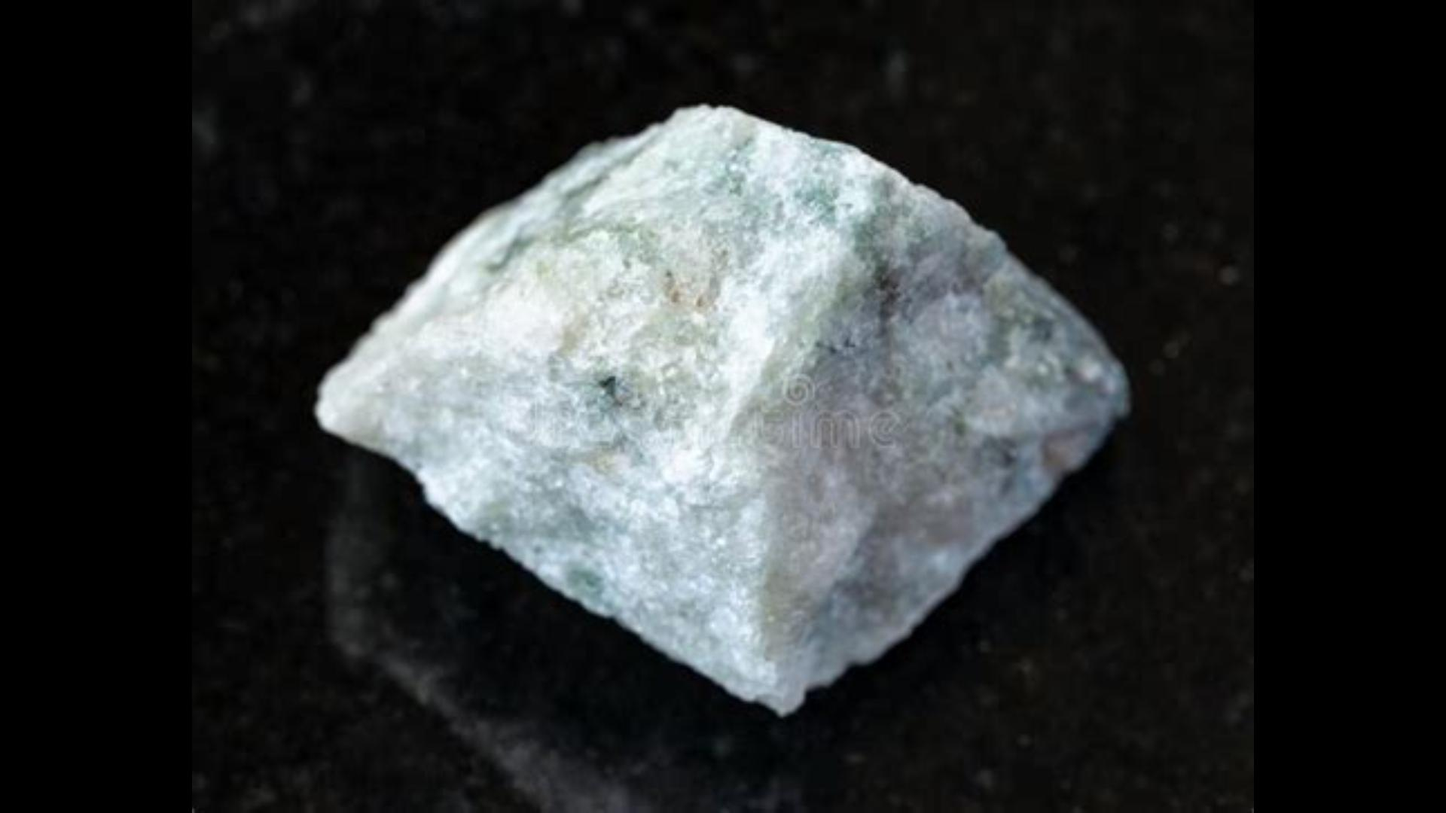rock: (318, 108, 1126, 710)
